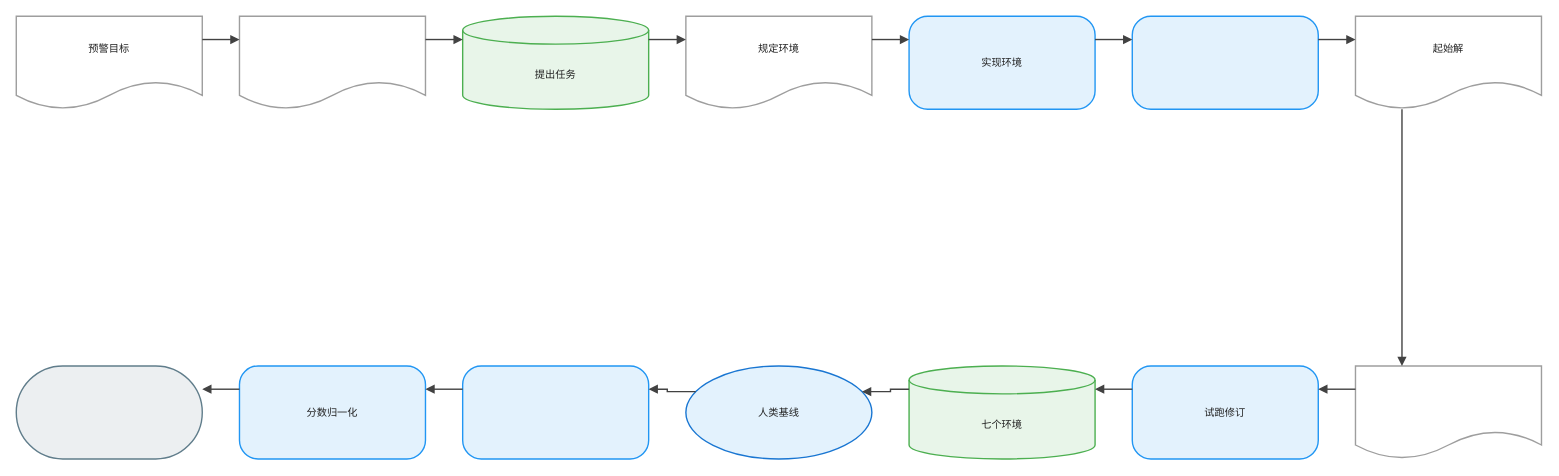
Image size: 1559x476. Some labels were removed from this diagram. The shapes that lost their labels are listed below. From the top down, each one's centre as x and y in pixels, then its label:
At (x=332, y=62): "设计准则".
At (x=1225, y=62): "构建评分器".
At (x=109, y=412): "score@k".
At (x=555, y=412): "运行智能体".
At (x=1448, y=412): "参考解".
